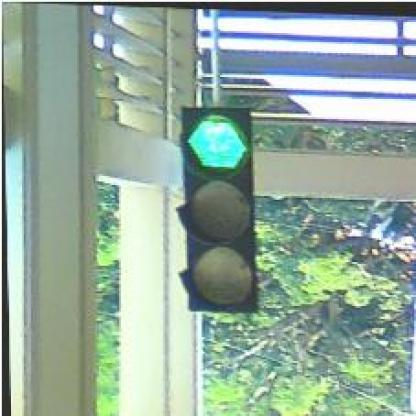green: (180, 104, 257, 310)
